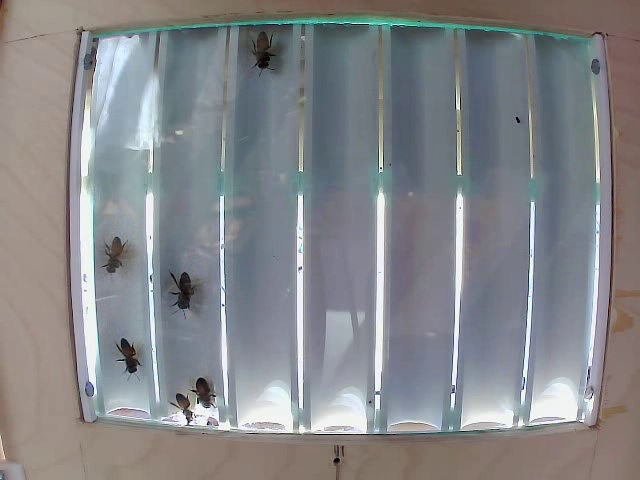bee: (249, 32, 299, 93), (166, 259, 204, 329), (106, 326, 153, 374), (86, 234, 128, 276), (184, 364, 215, 405)
